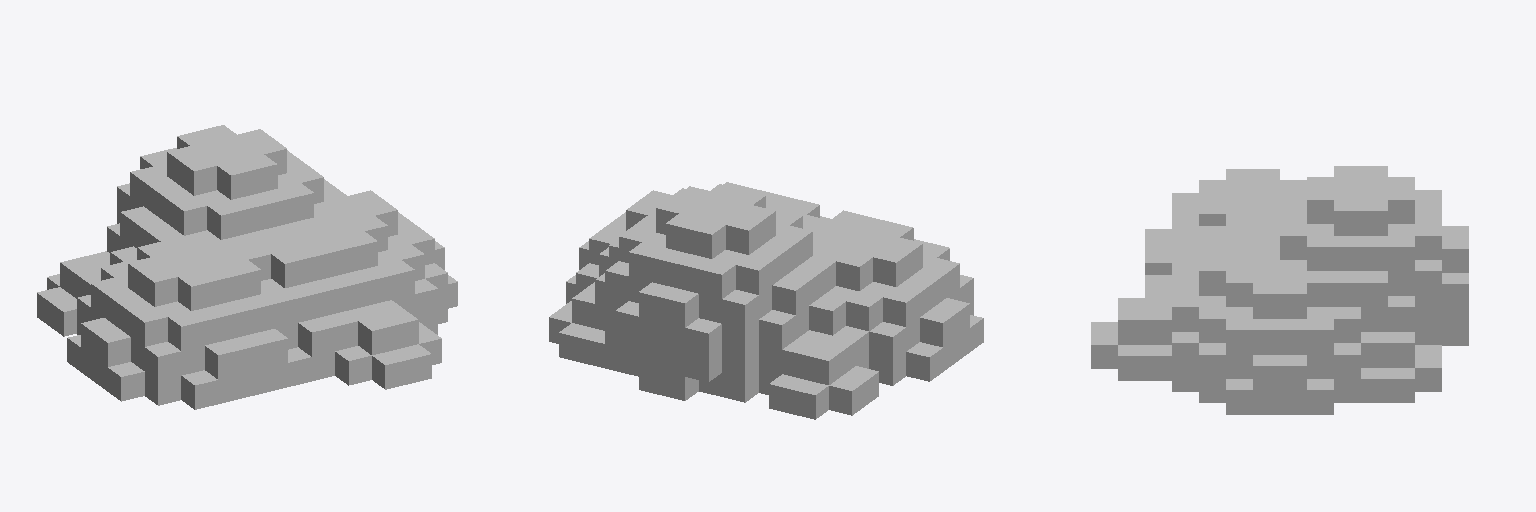
File: Arbusto_05.obj
3 views of the same model, side by side, from view 1: azimuth 30°, elevation 25°; view 2: azimuth 150°, elevation 25°; view 3: azimuth 270°, elevation 25° (orthographic).
Parts seen in each view (by area): view 1: Content; view 2: Content; view 3: Content.
Boxes of the visible parts, <box> form: Content: <box>37,125,457,409</box>; Content: <box>549,182,983,419</box>; Content: <box>1091,166,1468,414</box>.
Size of the model in its own units: 1.2 by 0.48 by 1.12.